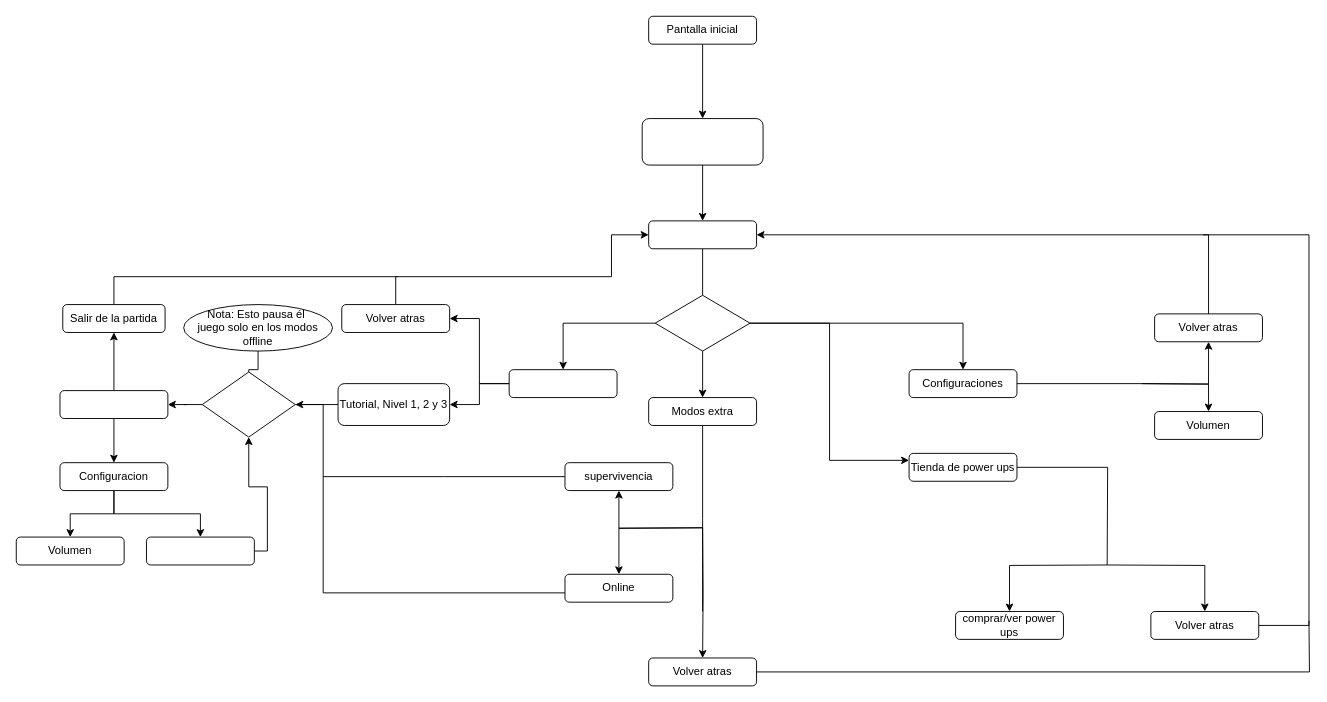
Image size: 1327x702. Some labels were removed from this diagram. The shapes that lost their labels are listed below. From the top down, each one's centre as x and y in pixels, then its label:
At point (702, 141): "pulsar pantalla para entrar a menu principal".
At point (702, 234): "Menu principal".
At point (702, 322): "Opciones disponibles".
At point (562, 383): "Niveles".
At point (113, 404): "Menu de opciones".
At point (248, 404): "Dentro de la partida".
At point (200, 550): "Volver al juego".
